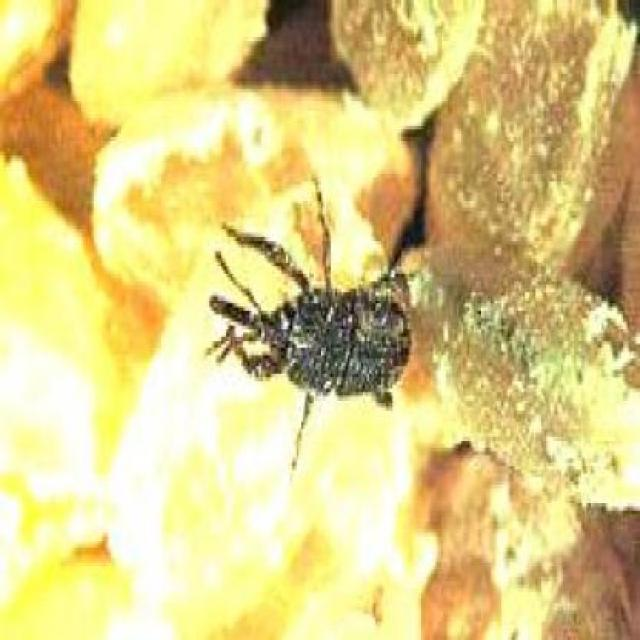rice-bug: (214, 200, 414, 429)
